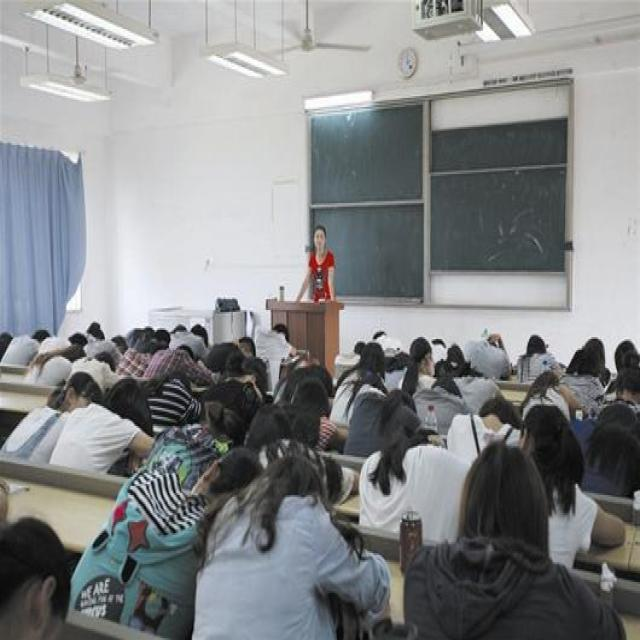head: (462, 433, 556, 564), (520, 399, 578, 497), (248, 399, 300, 480), (595, 395, 639, 455), (476, 377, 516, 439), (105, 372, 147, 429), (194, 390, 237, 444), (290, 368, 328, 426), (56, 366, 99, 415), (380, 382, 414, 430), (576, 328, 605, 384), (474, 319, 504, 365), (356, 330, 383, 379), (82, 342, 114, 382), (157, 361, 187, 402), (613, 366, 639, 412), (407, 330, 431, 375), (240, 354, 267, 392), (610, 335, 635, 372), (230, 328, 254, 365), (522, 324, 543, 364), (443, 335, 465, 372), (431, 366, 454, 401), (170, 336, 191, 374), (107, 326, 127, 363), (266, 314, 287, 348), (63, 334, 83, 368), (30, 319, 51, 350), (310, 221, 328, 254), (151, 319, 170, 348), (188, 319, 206, 348), (68, 326, 86, 352), (431, 330, 447, 357), (85, 314, 100, 342)
